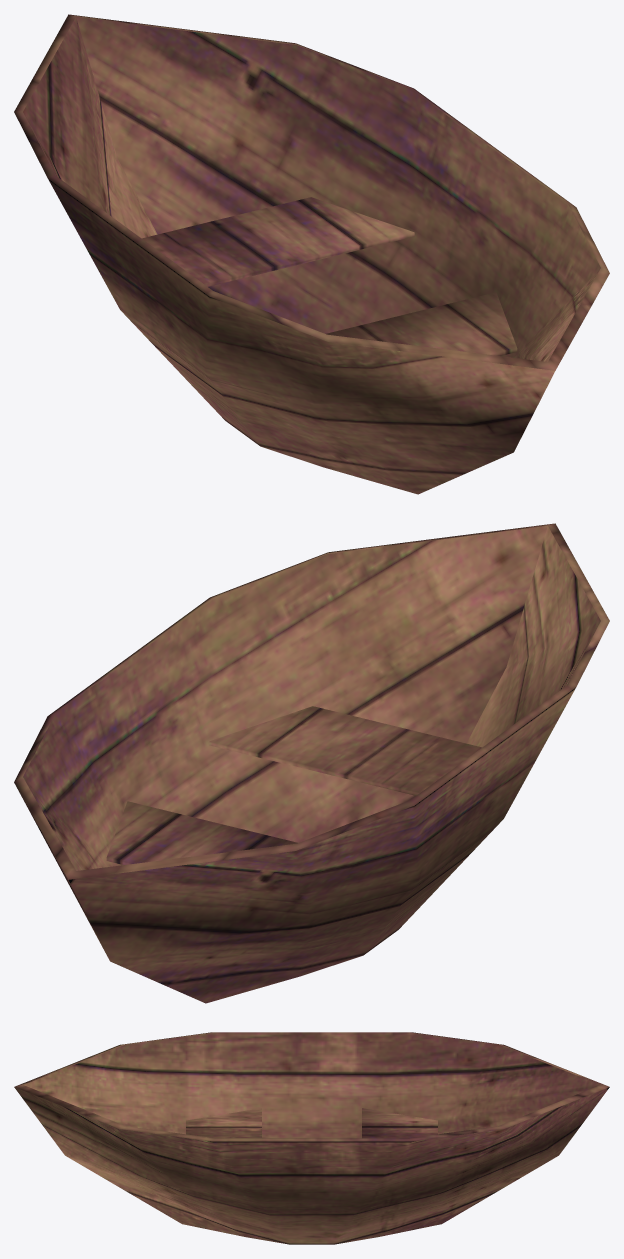
The model's file is boat.fbx.
The picture shows the model from 3 angles, top to bottom: view 1: azimuth 30°, elevation 25°; view 2: azimuth 150°, elevation 25°; view 3: azimuth 270°, elevation 25°; orthographic projection. The views are drawn at different scales.
Visible parts, largest first — view 1: boat; view 2: boat; view 3: boat.
Boxes of the visible parts, x1,y1,x2,y2 form: boat: (14, 14, 609, 494); boat: (14, 523, 609, 1003); boat: (14, 1032, 609, 1244).
Bounding box in the file's own units: 121 × 71.81 × 279.
